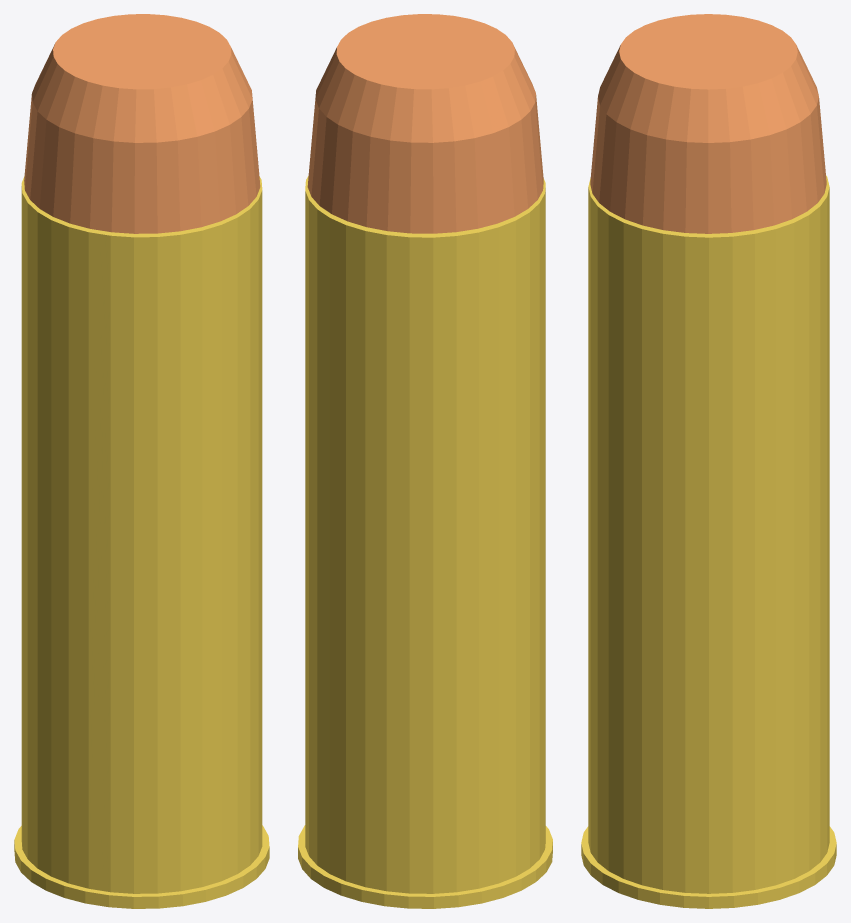
The model's file is Balas.fbx.
3 views of the same model, side by side, from view 1: azimuth 30°, elevation 25°; view 2: azimuth 150°, elevation 25°; view 3: azimuth 270°, elevation 25° (orthographic).
Parts seen in each view (by area): view 1: Cylinder, Cylinder.001; view 2: Cylinder, Cylinder.001; view 3: Cylinder, Cylinder.001.
Boxes of the visible parts, x1,y1,x2,y2 form: Cylinder: (14,176,269,908); Cylinder.001: (24,14,260,233); Cylinder: (298,176,552,908); Cylinder.001: (307,14,543,233); Cylinder: (581,175,836,908); Cylinder.001: (590,14,826,233).
Size of the model in its own units: 28.84 by 100 by 28.84.
